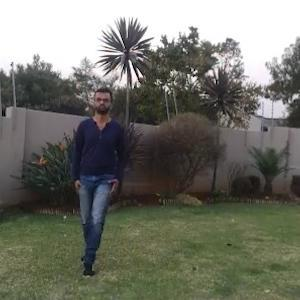follow: (61, 56, 134, 280)
